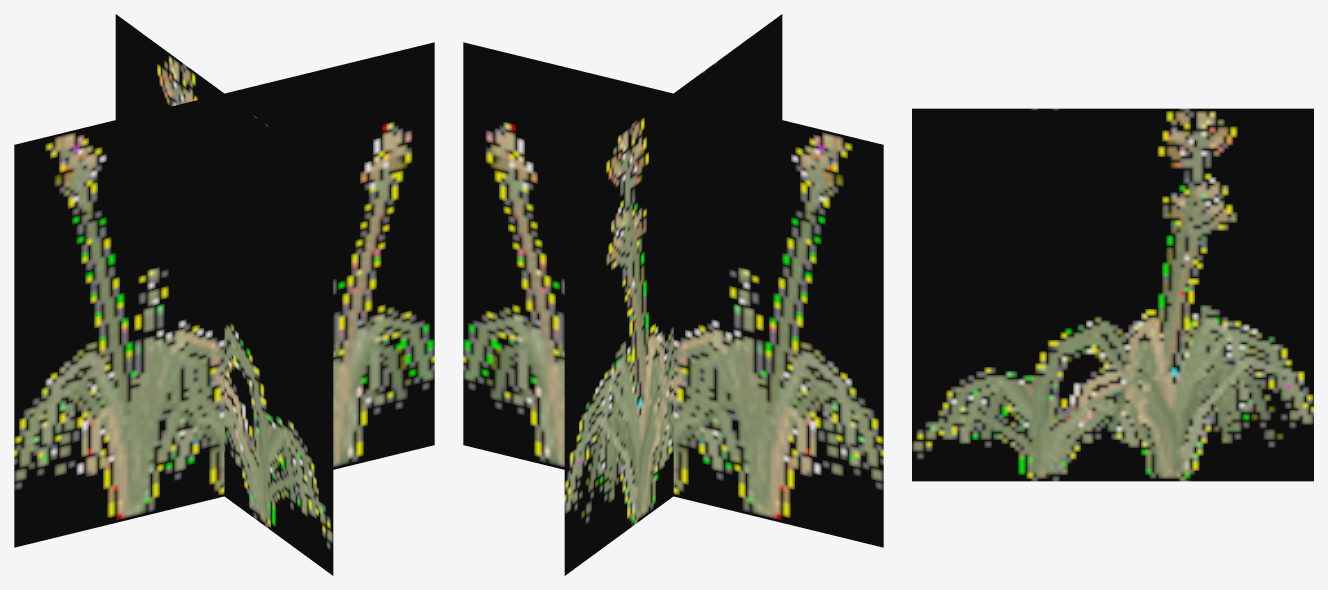
File: w01b-far.glb
The picture shows the model from 3 angles, left to right: view 1: azimuth 30°, elevation 25°; view 2: azimuth 150°, elevation 25°; view 3: azimuth 270°, elevation 25°; orthographic projection. The views are drawn at different scales.
Bounding box in the file's own units: 1.11 × 1.02 × 0.9978.
1 material, 1 textured.
